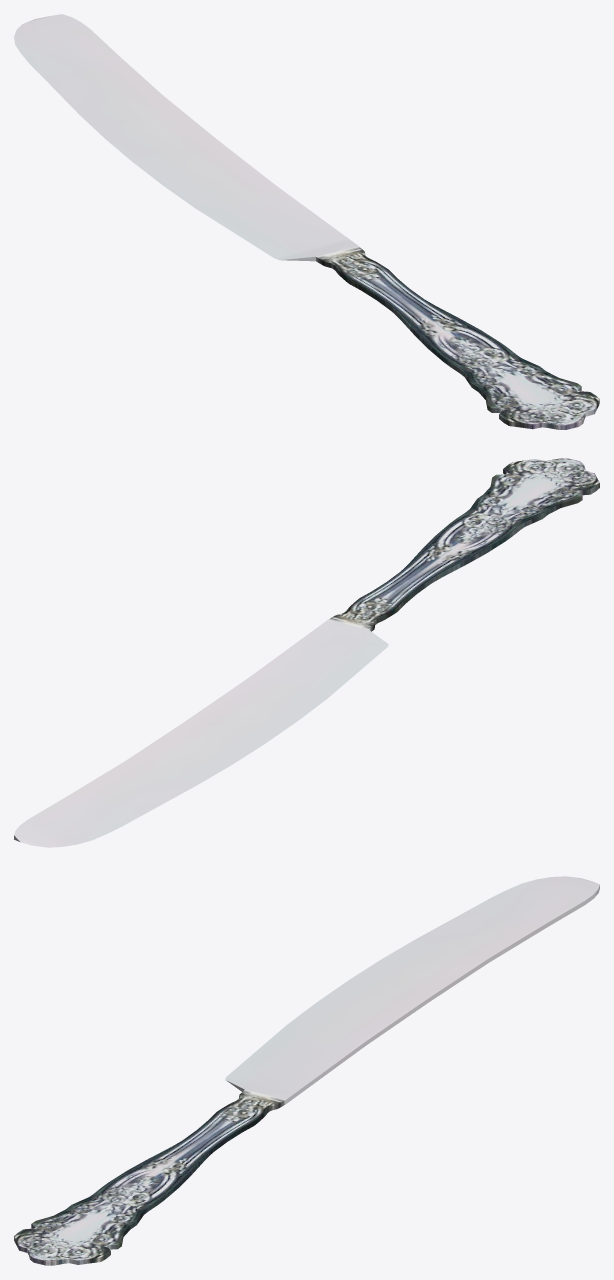
File: knife_B.fbx
3 renders of one model, top to bottom at view 1: azimuth 30°, elevation 25°; view 2: azimuth 150°, elevation 25°; view 3: azimuth 330°, elevation 25°, orthographic. The views are drawn at different scales.
Parts seen in each view (by area): view 1: knife_B; view 2: knife_B; view 3: knife_B.
Part boxes in pixels (x1=…): knife_B: x1=14, y1=14, x2=599, y2=429; knife_B: x1=14, y1=458, x2=599, y2=847; knife_B: x1=14, y1=876, x2=599, y2=1265.
Size of the model in its own units: 1.35 by 0.055 by 11.99.
Materials: 1 (1 with a texture image).
